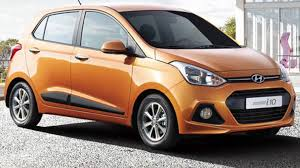i10: (3, 1, 300, 162)
